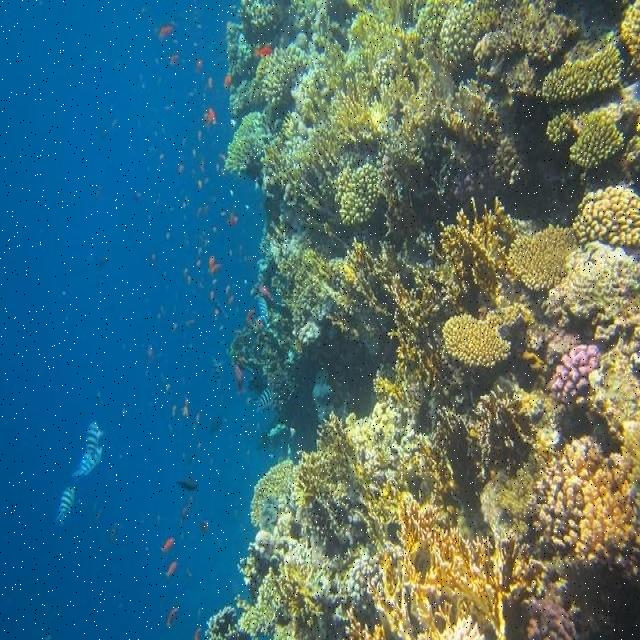fish: (69, 446, 106, 479), (58, 481, 78, 526), (84, 419, 100, 455), (256, 385, 274, 412), (256, 291, 268, 325)
reefs: (443, 303, 517, 369), (507, 226, 580, 291), (528, 469, 585, 552), (544, 43, 625, 101), (547, 109, 625, 168), (573, 186, 639, 254), (417, 0, 481, 66), (544, 342, 601, 406), (249, 459, 297, 526), (333, 164, 380, 230), (263, 45, 309, 107), (488, 135, 526, 186), (623, 4, 639, 60)
